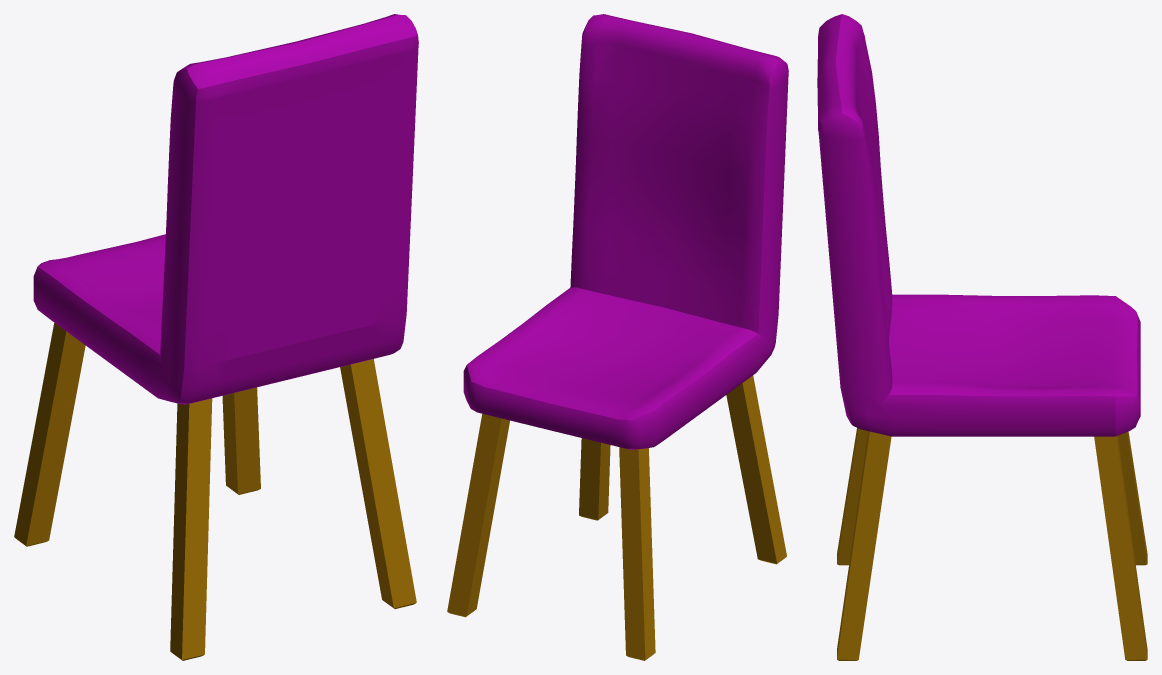
File: ASS_chair_v000.fbx
3 views of the same model, side by side, from view 1: azimuth 30°, elevation 25°; view 2: azimuth 150°, elevation 25°; view 3: azimuth 270°, elevation 25° (orthographic). The views are drawn at different scales.
Parts seen in each view (by area): view 1: polySurface1, leg; view 2: polySurface1, leg; view 3: polySurface1, leg.
Part boxes in pixels (x1,y1,x2,y2): polySurface1: (33, 14, 418, 404); leg: (14, 323, 416, 660); polySurface1: (463, 14, 788, 449); leg: (447, 375, 786, 660); polySurface1: (817, 14, 1140, 436); leg: (837, 428, 1147, 660).
Size of the model in its own units: 13.21 by 31.82 by 17.39.
